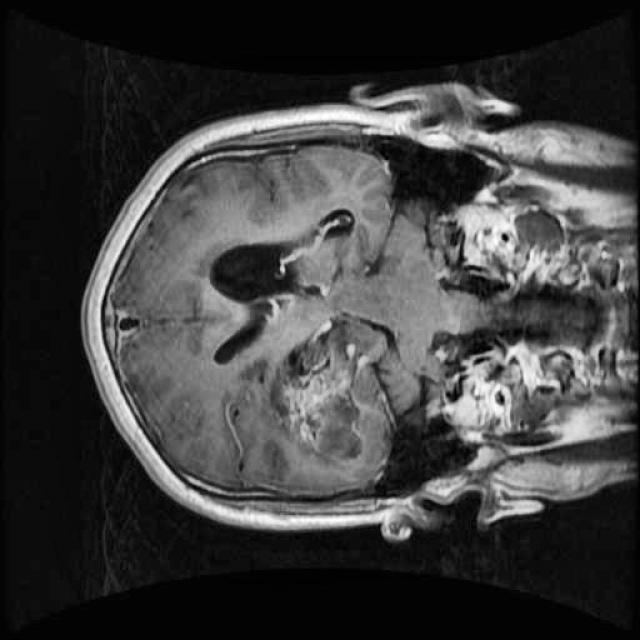Tumor: (262, 301, 426, 485)
